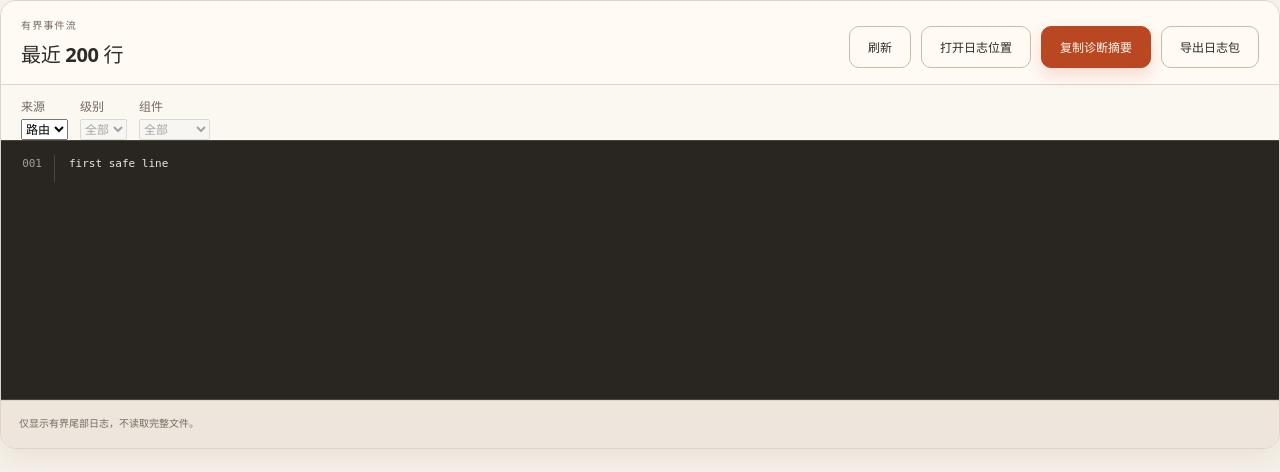
Test: LogsPage › refreshes the bounded range from the toolbar
expect the text "first safe line" is shown: met, box left=69, top=157, right=168, bottom=170
Click the button "刷新" at [880, 47], box left=849, top=26, right=911, bottom=68
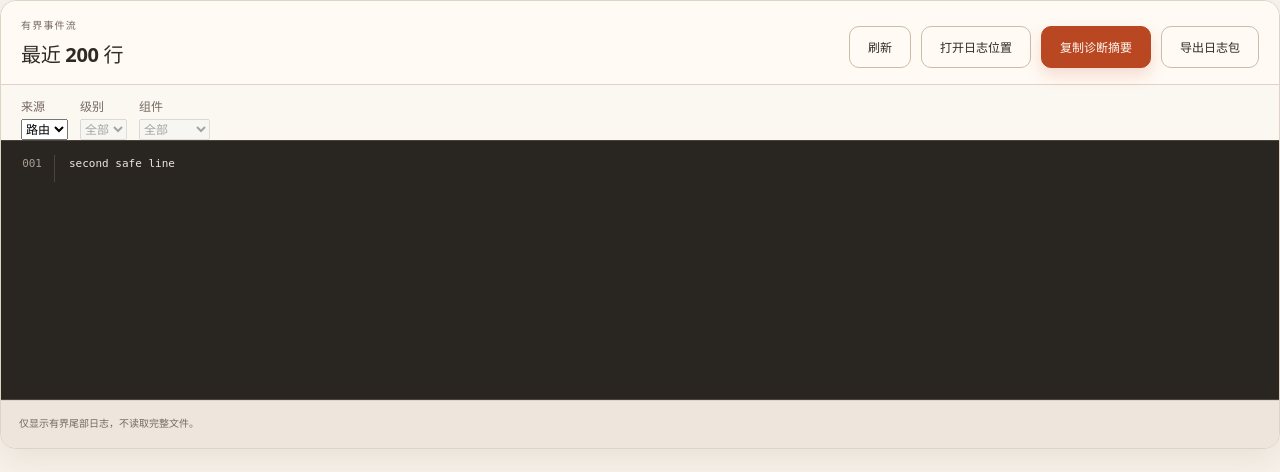
expect the text "second safe line" is shown: met, box left=69, top=157, right=175, bottom=170
